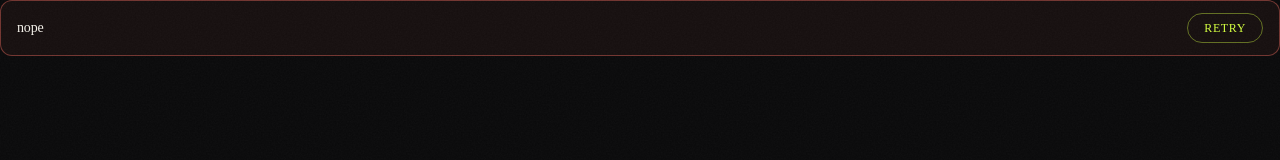
Scenario: <StatsSummary /> › shows an error with Retry rather than zeros
Expected: the message shows "nope", [17, 20, 44, 35]
Expected: the text "₹0" is not shown
Click the button "Retry": (1225, 28) [1187, 13, 1263, 43]
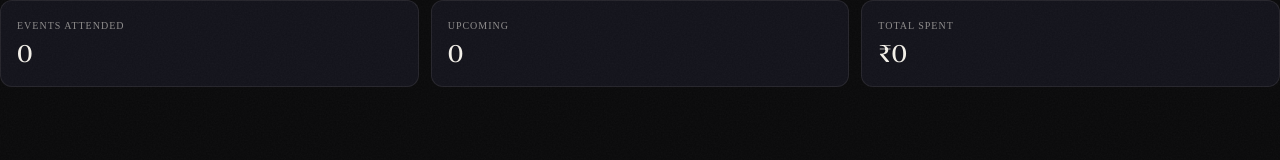
Expected: the text "₹0" is shown, [878, 39, 907, 68]
